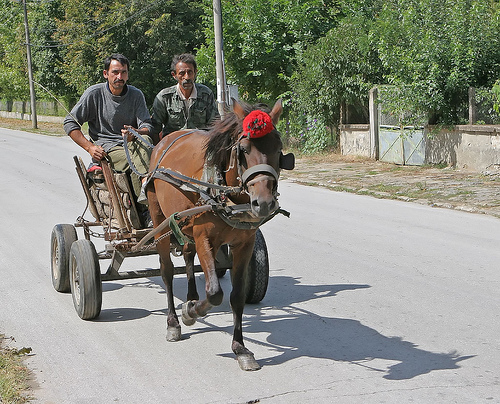horse: (145, 98, 289, 371)
